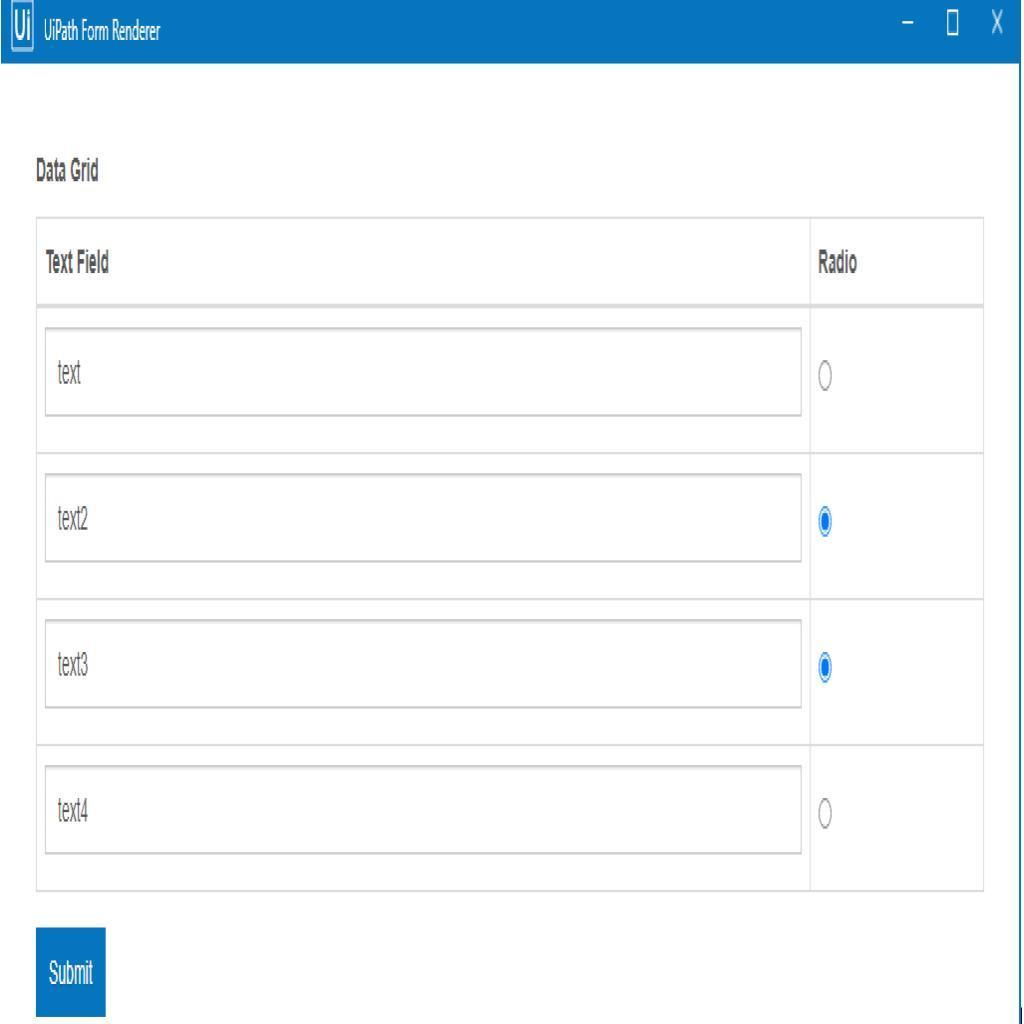button: (35, 926, 108, 1016)
input: (45, 617, 801, 707), (45, 326, 800, 413), (46, 766, 804, 852), (46, 476, 804, 561)
radio: (818, 503, 837, 541), (816, 798, 836, 834), (818, 358, 836, 395), (818, 649, 836, 684)
table: (36, 214, 985, 892)
